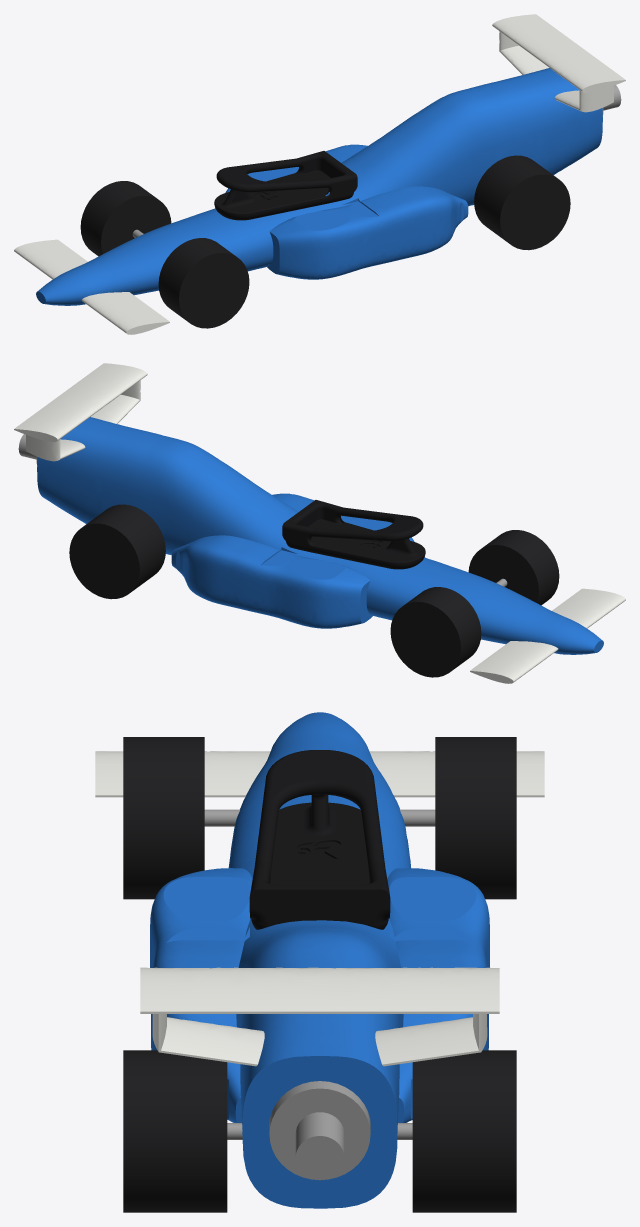
File: concept-v1.glb
The picture shows the model from 3 angles, top to bottom: view 1: azimuth 30°, elevation 25°; view 2: azimuth 150°, elevation 25°; view 3: azimuth 270°, elevation 25°; orthographic projection. The views are drawn at different scales.
Visible parts, largest first — view 1: Concept V1 Arrow; view 2: Concept V1 Arrow; view 3: Concept V1 Arrow.
Part boxes in pixels (left/top/right/bottom): Concept V1 Arrow: left=14, top=14, right=625, bottom=334; Concept V1 Arrow: left=14, top=363, right=625, bottom=683; Concept V1 Arrow: left=95, top=712, right=544, bottom=1212.
Size of the model in its own units: 0.236 by 0.0575 by 0.08.
